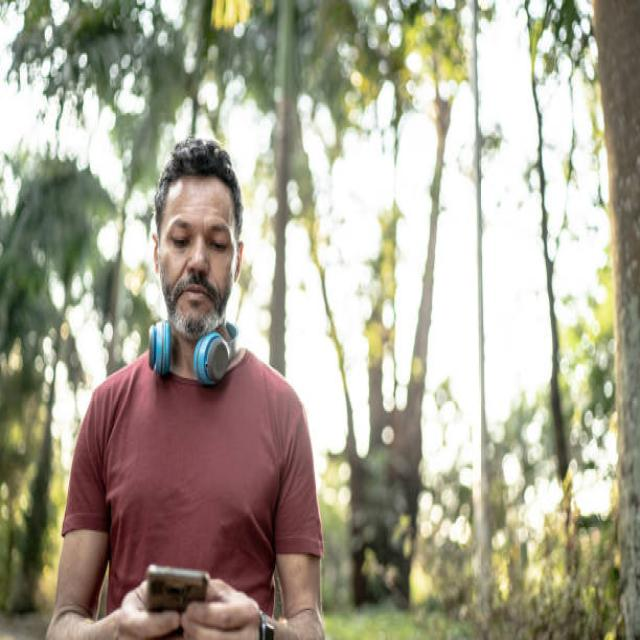Headphone: (148, 320, 245, 388)
